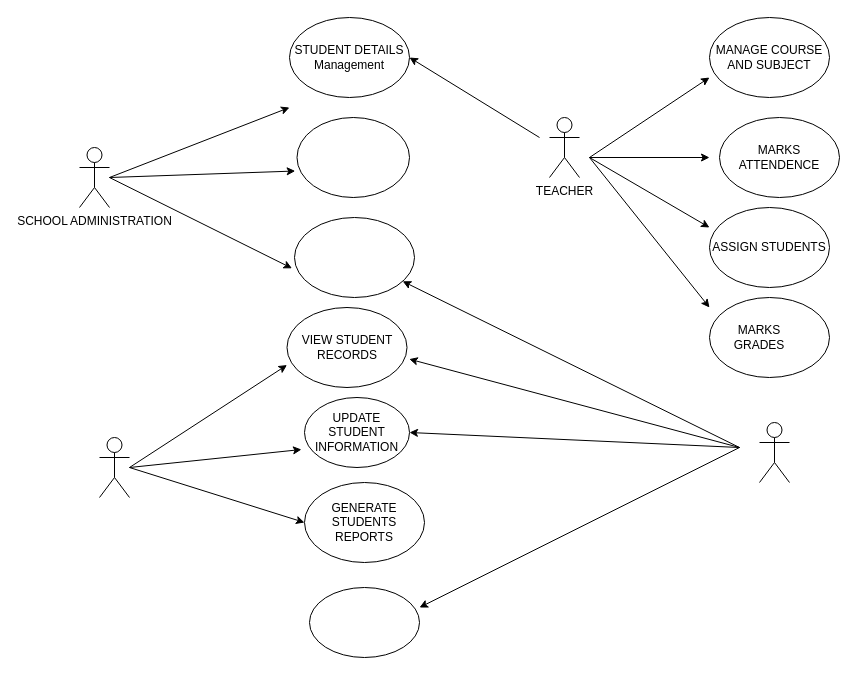
Image size: 857x675. Some labels were removed from this diagram. The shapes that lost their labels are listed below. From the top down, each one's centre as x and y in pixels, then its label:
At (353,157): "MANAGE STUDENTS FEES AND PAYMENTS".
At (354,257): "STUDENT ENROLMENT".
At (114,467): "CO-ORDINATOR".
At (774,452): "Student".
At (364,622): "VIEW GRADES AND ATTENDENCE".
